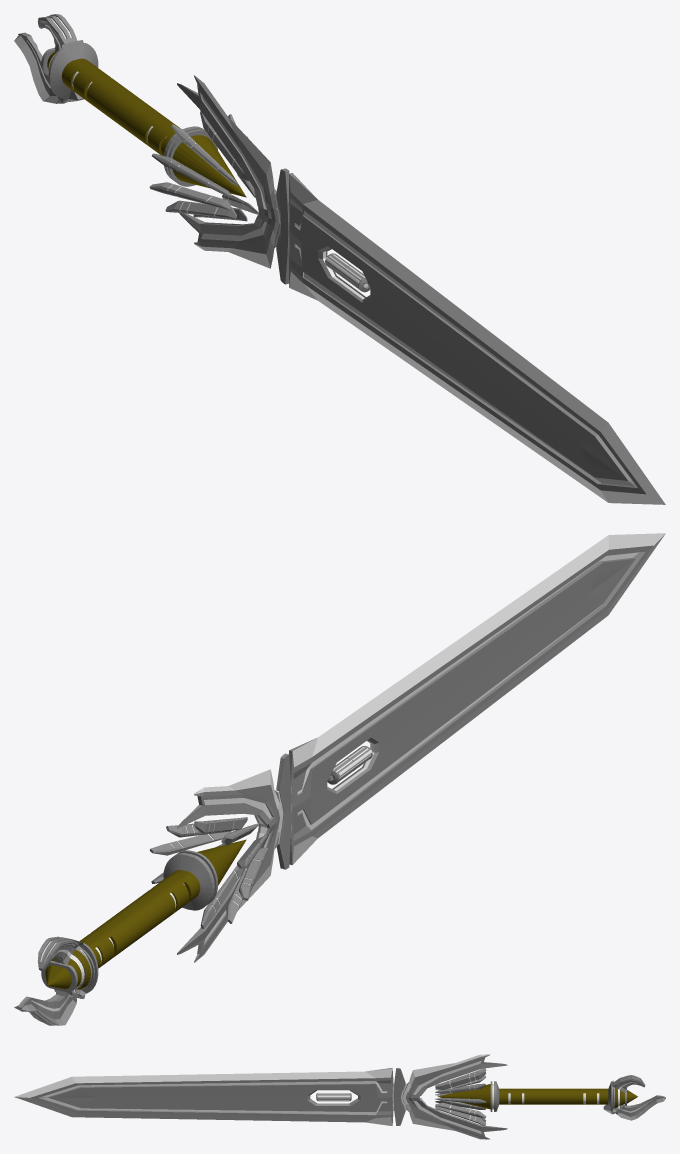
Rendered from Sword 4_1.fbx.
3 renders of one model, top to bottom at view 1: azimuth 30°, elevation 25°; view 2: azimuth 150°, elevation 25°; view 3: azimuth 270°, elevation 25°, orthographic. The views are drawn at different scales.
Parts seen in each view (by area): view 1: Lame, Garde, Cylinder; view 2: Lame, Garde, Cylinder; view 3: Lame, Garde, Cylinder.
Part boxes in pixels (box(x1,y1,x2,y2)): Lame: box(14, 14, 665, 504); Garde: box(149, 111, 258, 221); Cylinder: box(325, 253, 370, 292); Lame: box(14, 533, 665, 1025); Garde: box(150, 817, 268, 928); Cylinder: box(327, 746, 372, 784); Lame: box(14, 1054, 665, 1139); Garde: box(435, 1068, 486, 1125); Cylinder: box(316, 1092, 351, 1101).
Bounding box in the file's own units: 97.39 × 160 × 1106.
